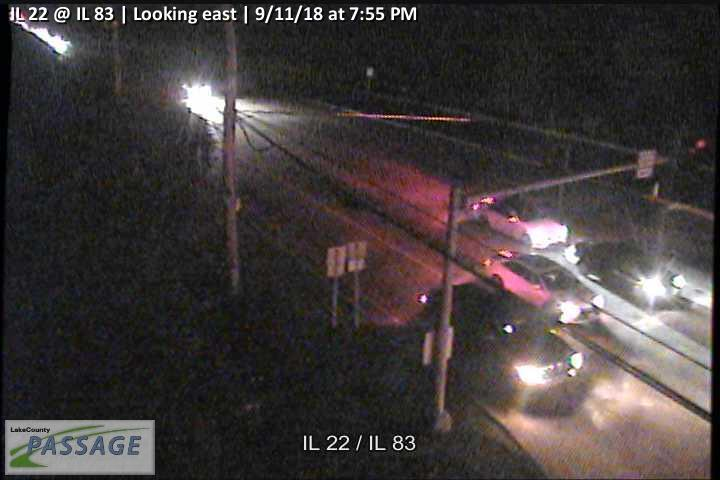SUV: (424, 282, 585, 390)
Sedan: (484, 250, 605, 324), (575, 239, 686, 302), (473, 194, 569, 246)
